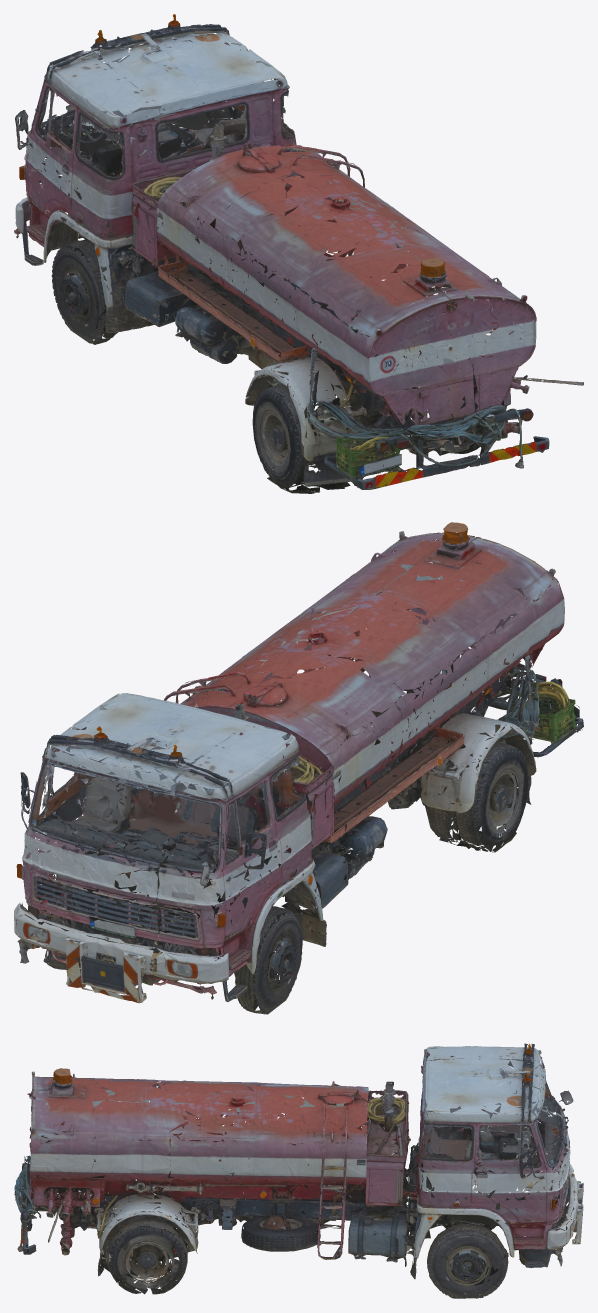
File: liaz_fire_truck.glb
3 renders of one model, top to bottom at view 1: azimuth 30°, elevation 25°; view 2: azimuth 150°, elevation 25°; view 3: azimuth 270°, elevation 25°, orthographic. The views are drawn at different scales.
Parts seen in each view (by area): view 1: LIAZ; view 2: LIAZ; view 3: LIAZ.
Part boxes in pixels (x1=…): LIAZ: x1=14, y1=14, x2=583, y2=493; LIAZ: x1=14, y1=522, x2=583, y2=1014; LIAZ: x1=14, y1=1043, x2=583, y2=1298.
Bounding box in the file's own units: 3.17 × 3.08 × 7.73.
Materials: 5 (5 with a texture image).
